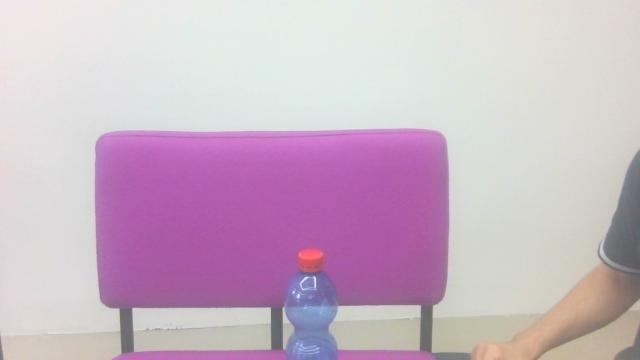plastic_bottle: (281, 245, 343, 360)
